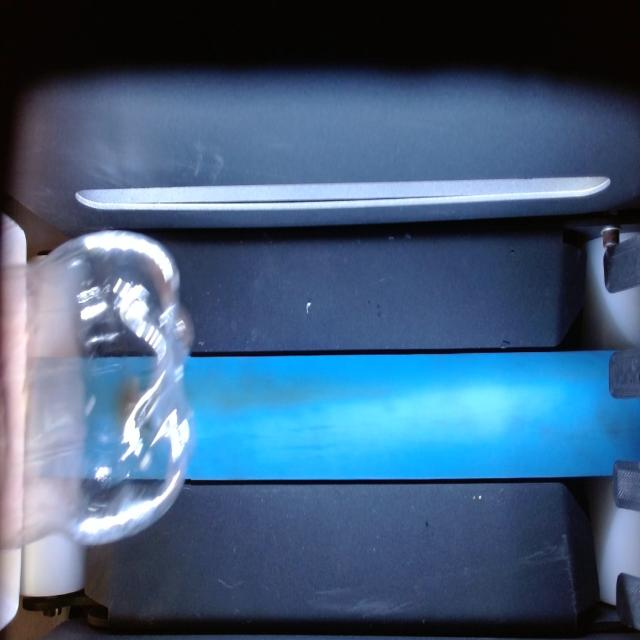bottom: (0, 231, 191, 547)
